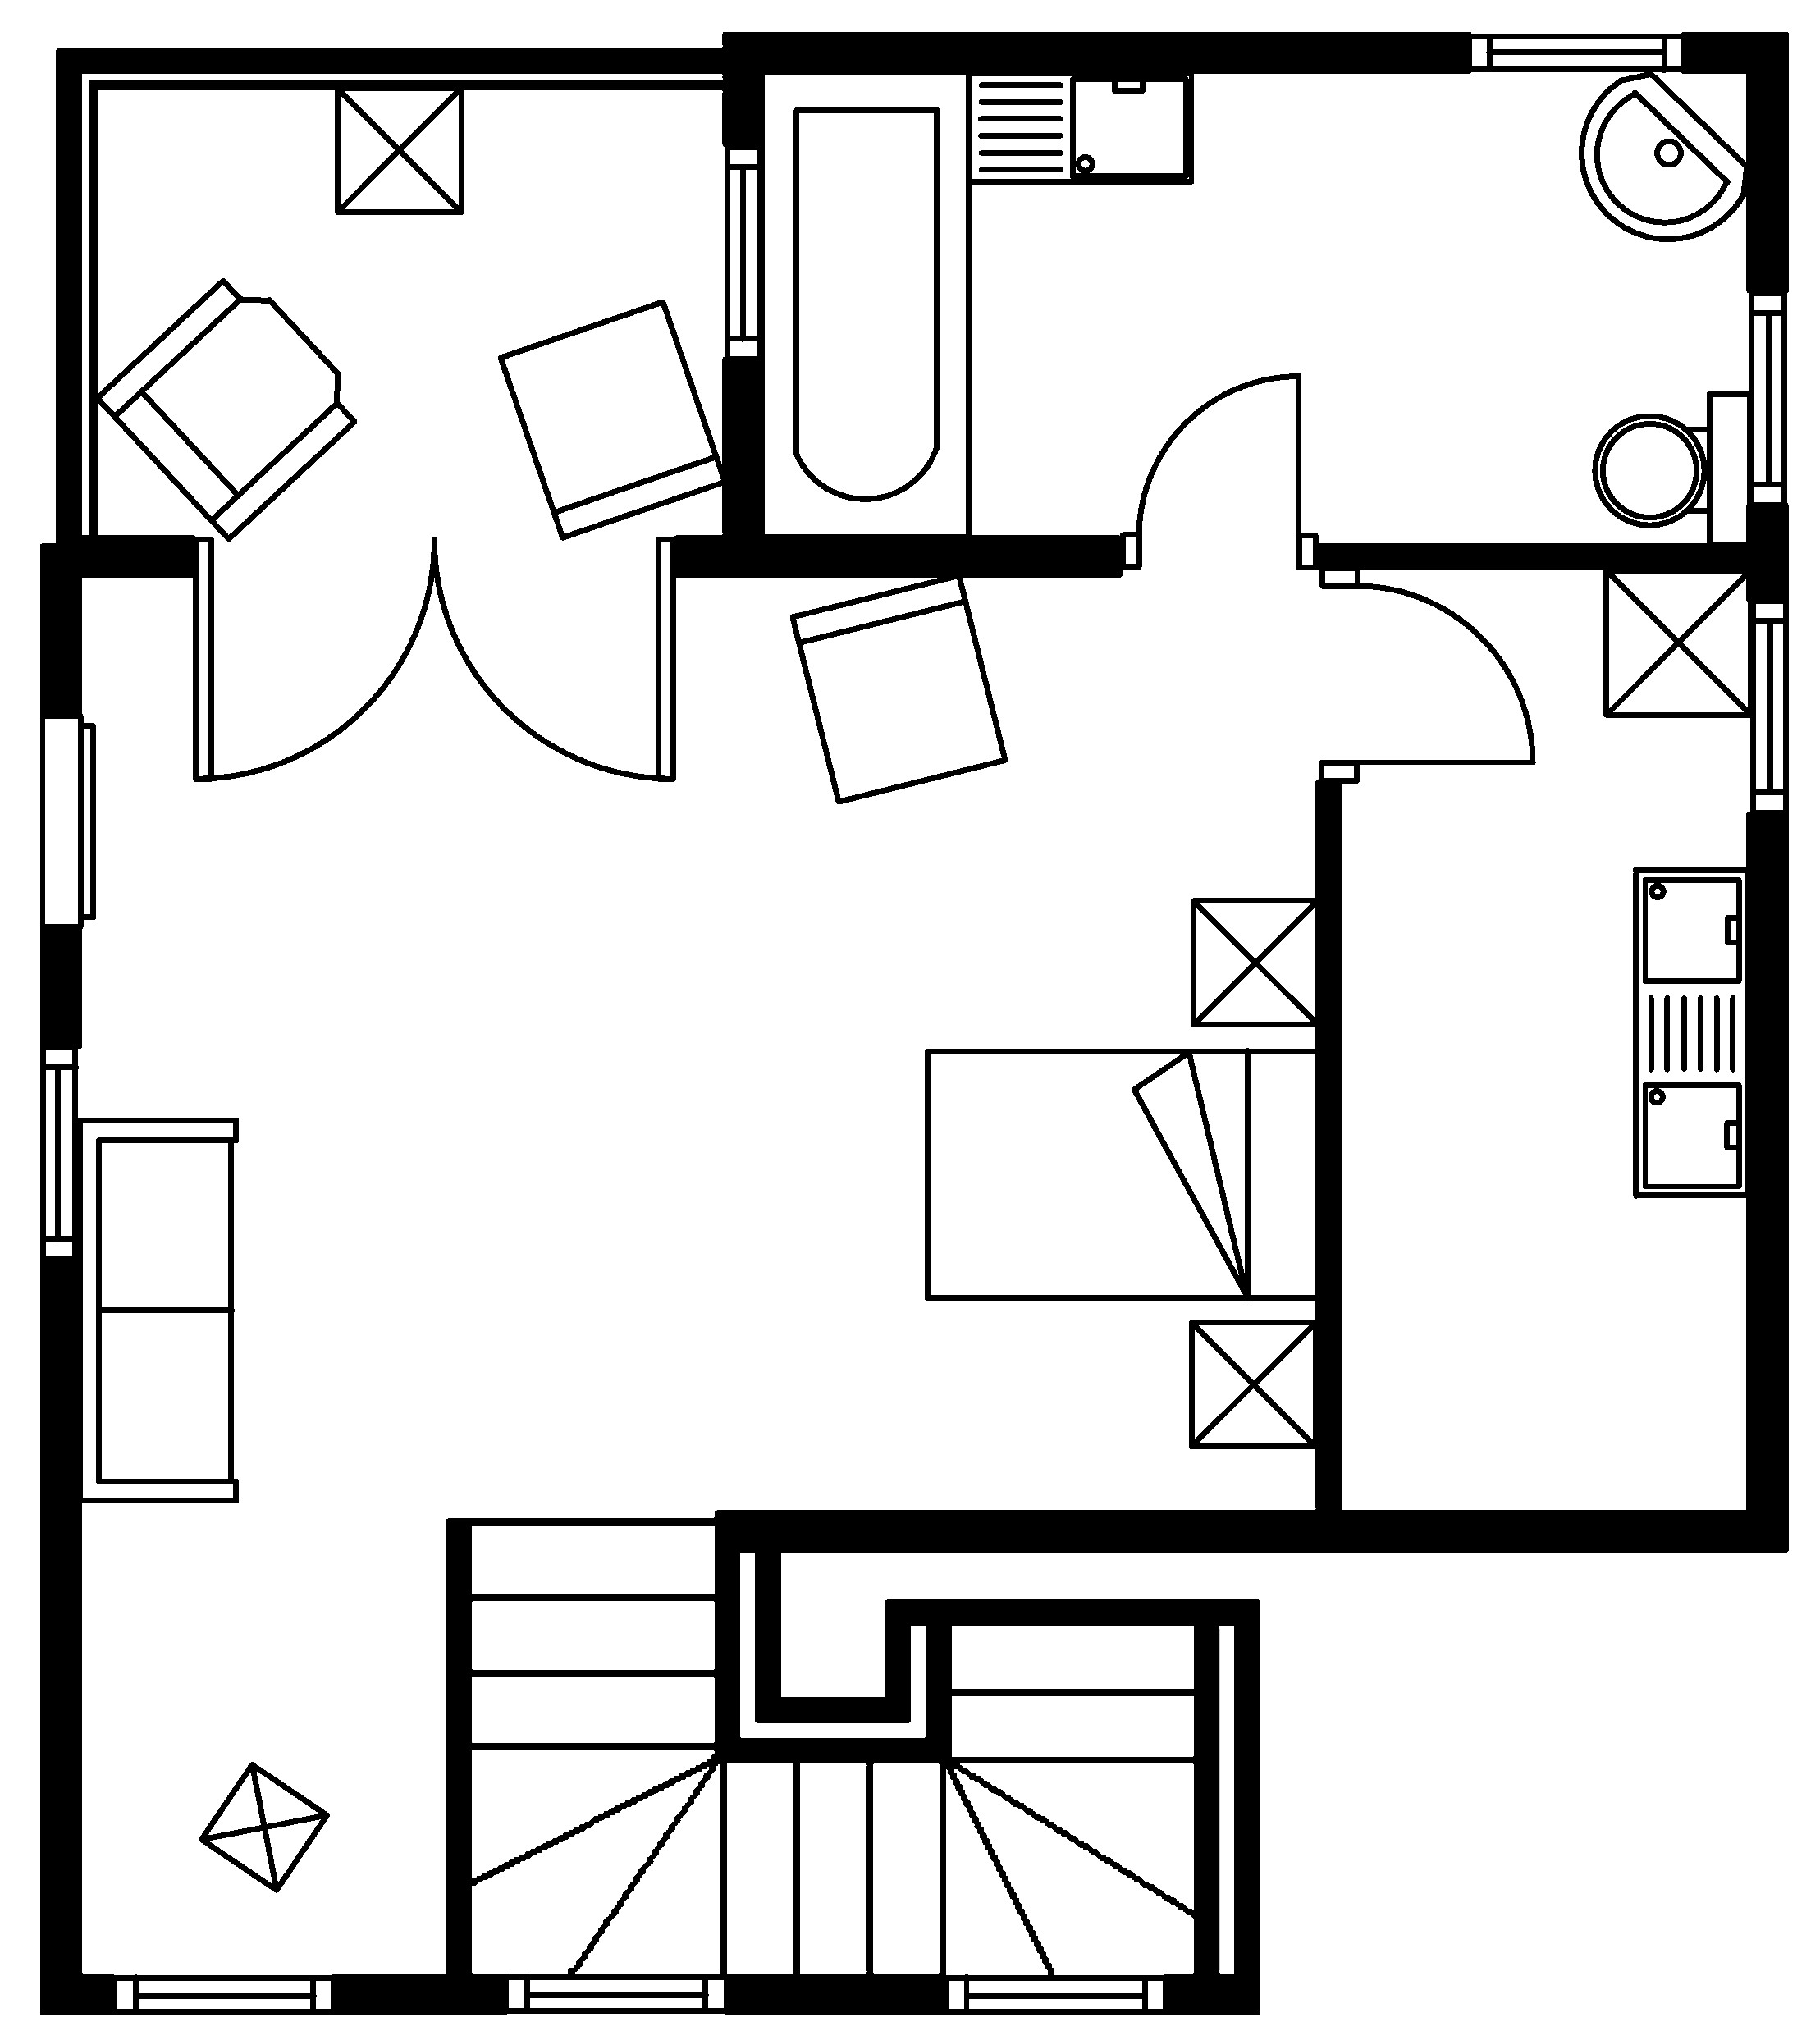armchair: (93, 276, 358, 543)
bed: (922, 1047, 1321, 1302)
coffee_table: (1602, 566, 1753, 719), (197, 1760, 330, 1894), (1186, 1318, 1319, 1449), (1189, 896, 1321, 1028), (332, 84, 464, 214)
large_sink: (1592, 388, 1753, 548)
large_sofa: (76, 1116, 239, 1504)
sink: (964, 69, 1195, 184)
small_sink: (1578, 70, 1750, 241)
small_sofa: (495, 297, 727, 541), (787, 571, 1008, 805)
tub: (757, 69, 971, 539)
twin_sink: (1630, 864, 1750, 1198)
